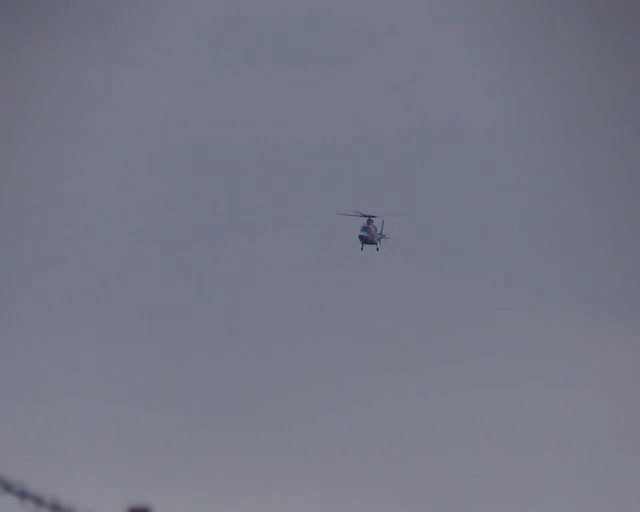HELICOPTER: (337, 209, 390, 253)
